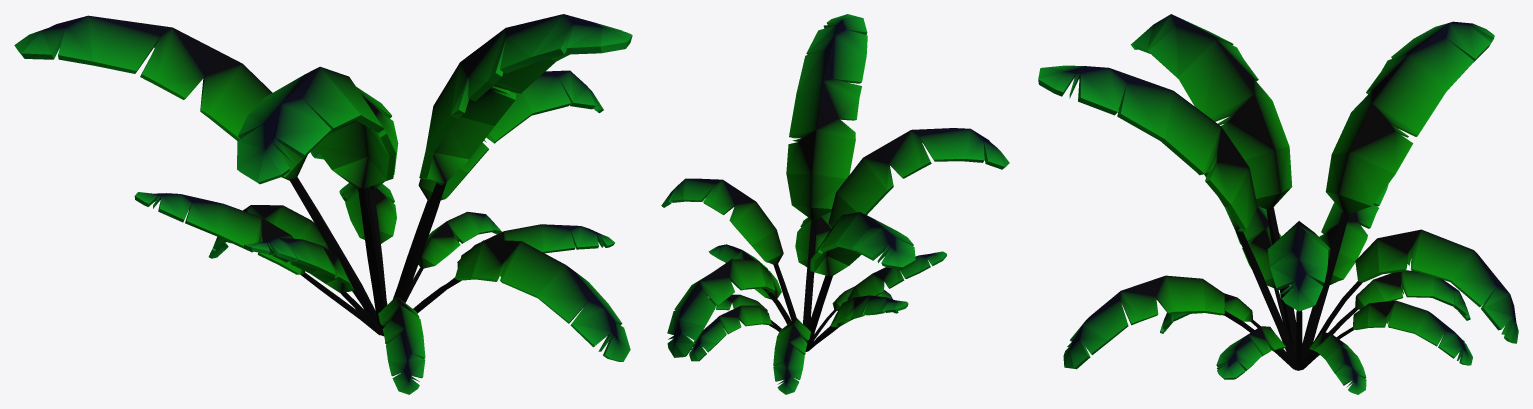
File: ShrubFernTall05.fbx
3 views of the same model, side by side, from view 1: azimuth 30°, elevation 25°; view 2: azimuth 150°, elevation 25°; view 3: azimuth 270°, elevation 25° (orthographic). The views are drawn at different scales.
Visible parts, largest first — view 1: ShrubFernTall05_LOD0; view 2: ShrubFernTall05_LOD0; view 3: ShrubFernTall05_LOD0.
Boxes of the visible parts, bbox=[...] form: ShrubFernTall05_LOD0: bbox=[14, 14, 632, 394]; ShrubFernTall05_LOD0: bbox=[661, 14, 1009, 394]; ShrubFernTall05_LOD0: bbox=[1038, 14, 1518, 394].
Size of what is drawn, in the model's own units: 337 by 258 by 341.
